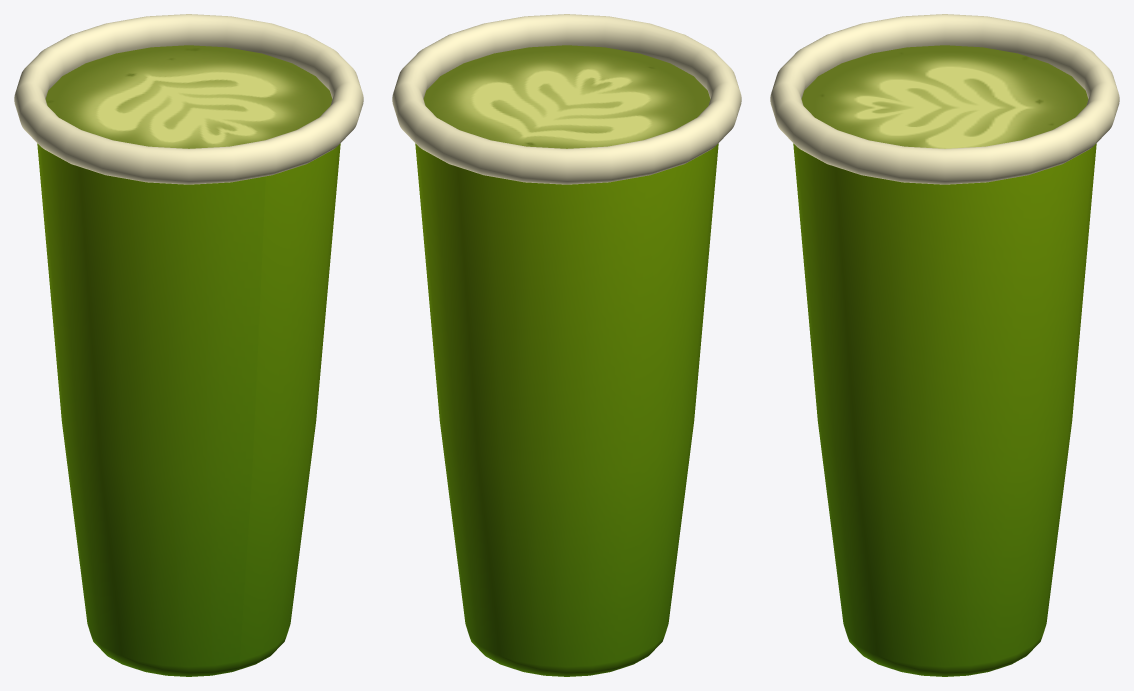
Rendered from SM_GreenCoffeMug_01a.fbx.
3 renders of one model, left to right at view 1: azimuth 30°, elevation 25°; view 2: azimuth 150°, elevation 25°; view 3: azimuth 270°, elevation 25°, orthographic.
Parts seen in each view (by area): view 1: SM_GreenCoffeMug_01a; view 2: SM_GreenCoffeMug_01a; view 3: SM_GreenCoffeMug_01a.
Part boxes in pixels (left/top/right/bottom): SM_GreenCoffeMug_01a: left=14, top=14, right=363, bottom=676; SM_GreenCoffeMug_01a: left=392, top=14, right=741, bottom=676; SM_GreenCoffeMug_01a: left=770, top=14, right=1119, bottom=676.
Bounding box in the file's own units: 37.25 × 65.7 × 37.25.
